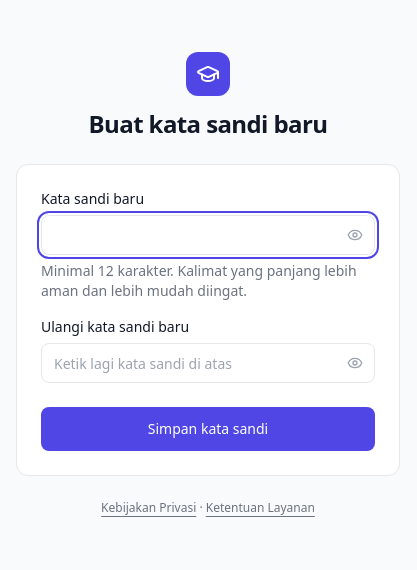
ResetPasswordPage › offers a fresh link when the token is rejected
Type "kalimat-yang-panjang" into the password field labelled "Kata sandi baru" at [208, 235], box [41, 215, 375, 255]
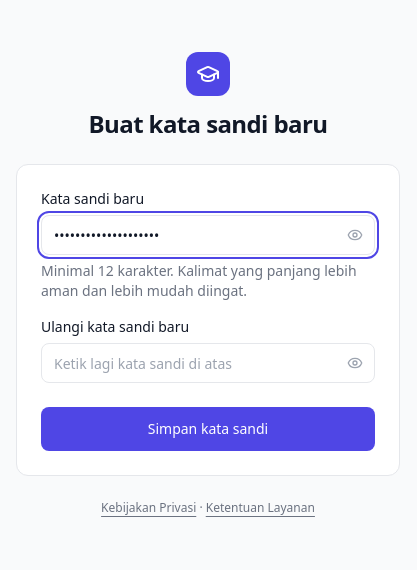
Type "kalimat-yang-panjang" into the password field labelled "Ulangi kata sandi baru" at [208, 363], box [41, 343, 375, 383]
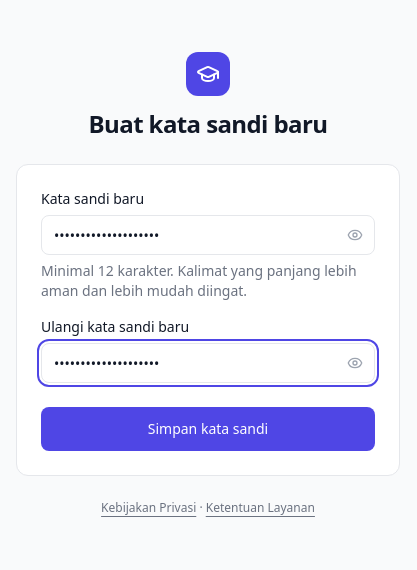
Click the button "Simpan kata sandi" at [208, 429], box [41, 407, 375, 451]
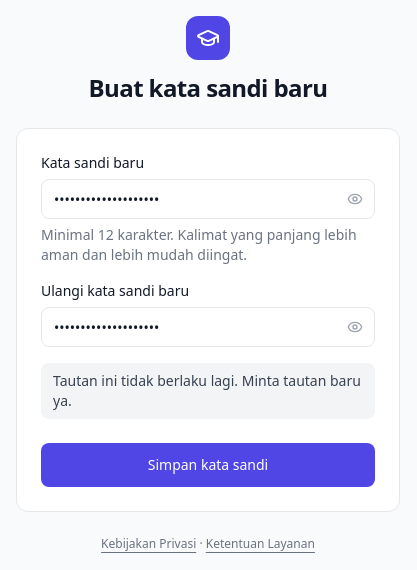
Check: the message shows "Tautan ini tidak berlaku lagi.", box [53, 371, 361, 410]
